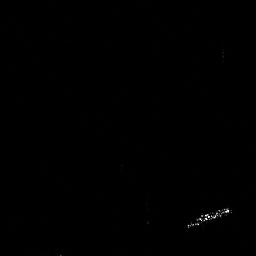ship: (187, 206, 233, 229)
